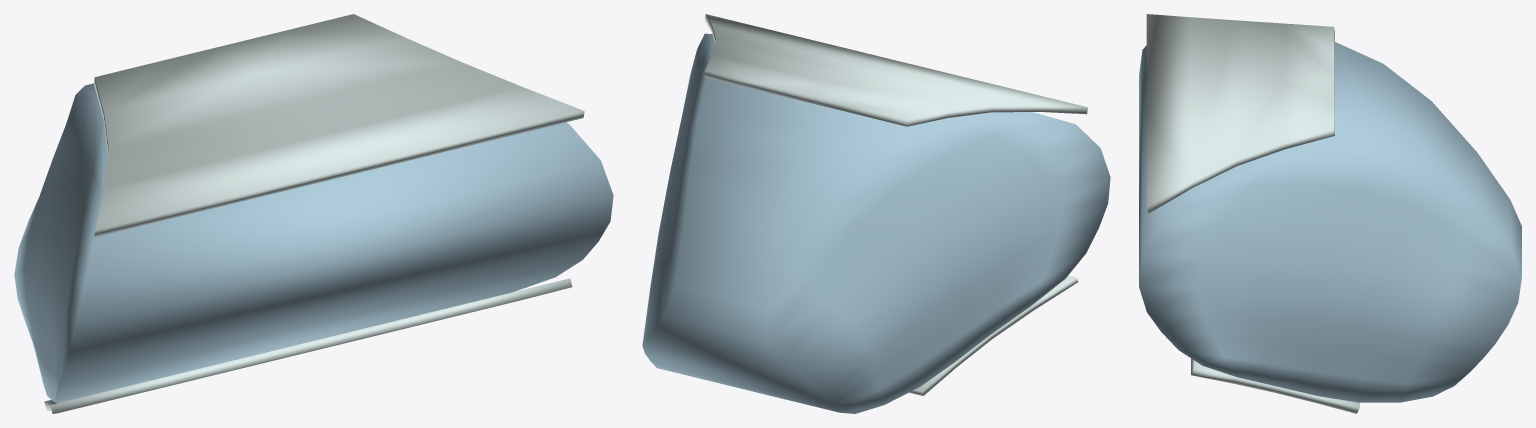
The model's file is articulacoes-pubic-symphysis.glb.
3 views of the same model, side by side, from view 1: azimuth 30°, elevation 25°; view 2: azimuth 150°, elevation 25°; view 3: azimuth 270°, elevation 25° (orthographic). The views are drawn at different scales.
Parts seen in each view (by area): view 1: Pubic symphysis, Superior pubic ligament, Inferior pubic ligament; view 2: Pubic symphysis, Superior pubic ligament, Inferior pubic ligament; view 3: Pubic symphysis, Superior pubic ligament, Inferior pubic ligament.
Part boxes in pixels (x1,y1,x2,y2): Pubic symphysis: [14, 83, 613, 403]; Superior pubic ligament: [94, 14, 584, 237]; Inferior pubic ligament: [44, 278, 572, 413]; Pubic symphysis: [642, 33, 1110, 413]; Superior pubic ligament: [704, 14, 1087, 126]; Inferior pubic ligament: [909, 275, 1078, 395]; Pubic symphysis: [1139, 42, 1521, 402]; Superior pubic ligament: [1146, 14, 1334, 213]; Inferior pubic ligament: [1191, 358, 1359, 413].
Size of the model in its own units: 0.0343 by 0.0203 by 0.0259.
